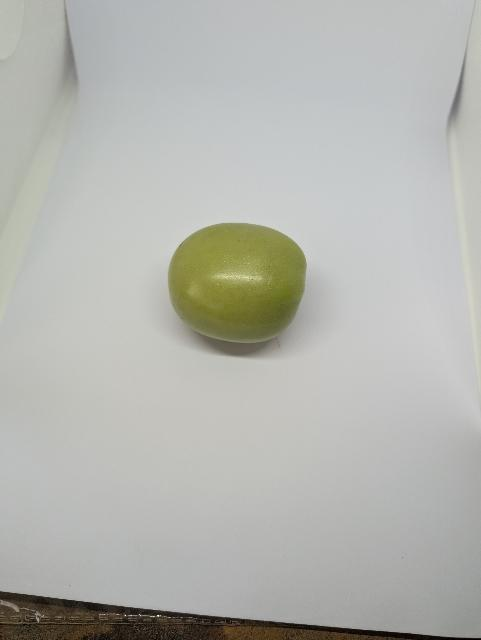green: (158, 216, 324, 364)
